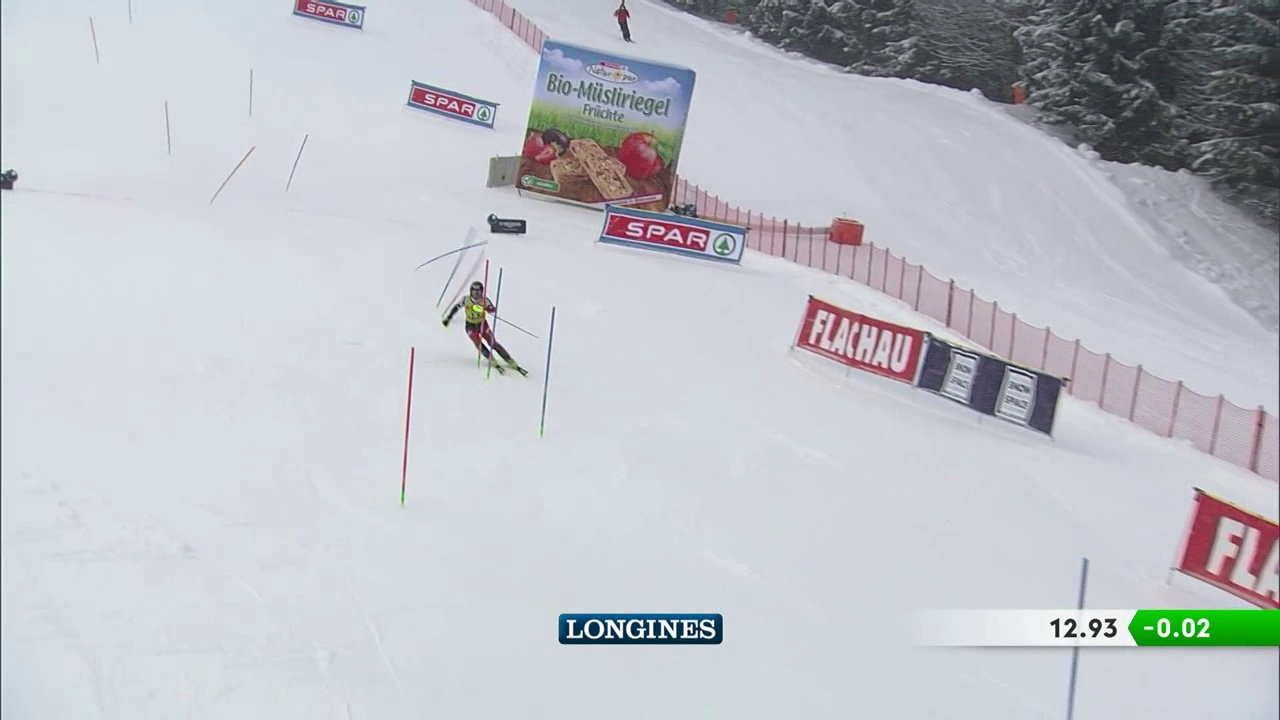flachau: (803, 301, 920, 387)
longines: (561, 616, 727, 649)
spar: (614, 215, 738, 262), (411, 88, 498, 126), (298, 1, 363, 27)
